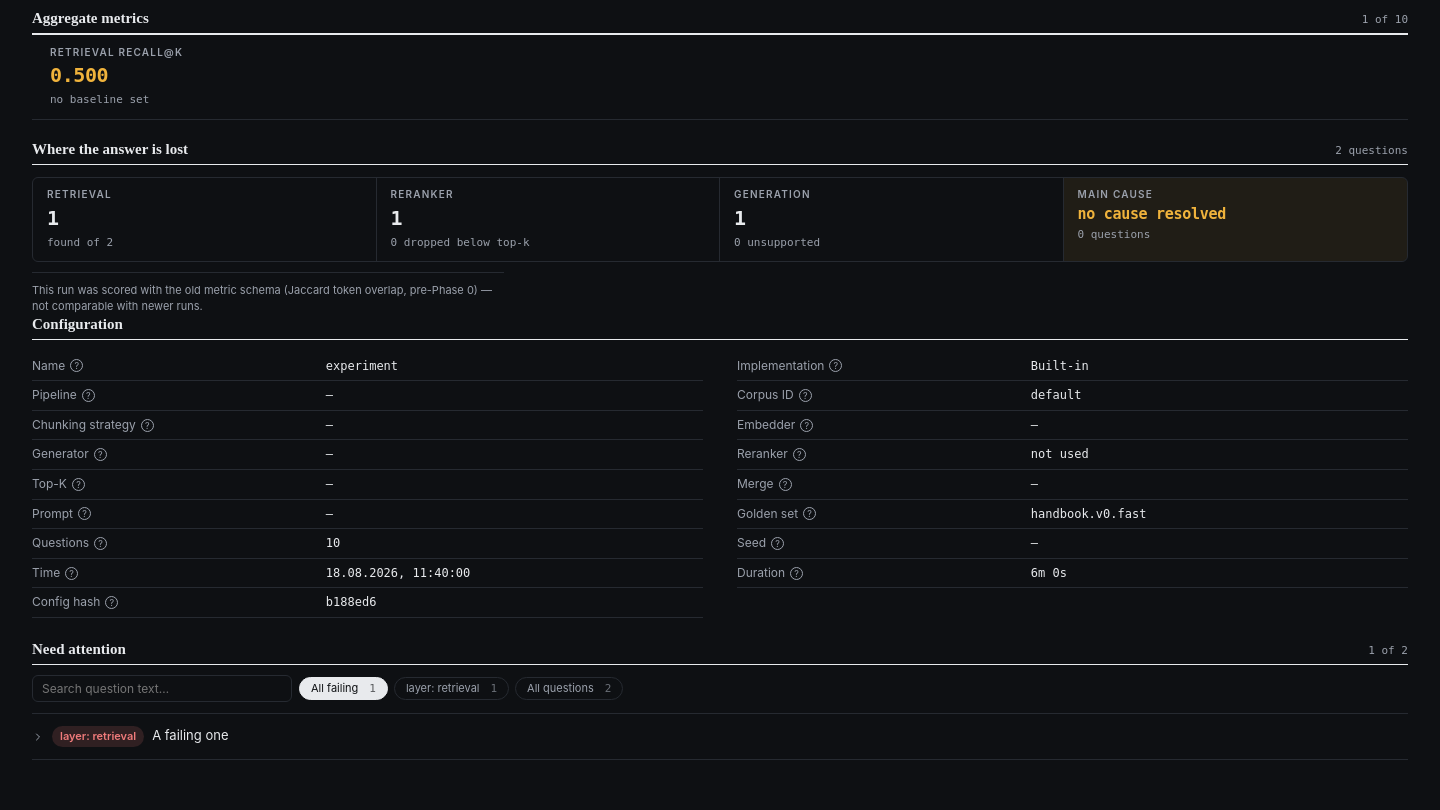
Test: filtering questions by failure layer › shows only the failures by default rather than the whole list
The width and height of the screenshot is (1440, 810).
(page scrolled)
Expected: the heading "Need attention" is shown, [32, 640, 126, 659]
Expected: the text "A failing one" is shown, [152, 727, 228, 743]
Click the button "All questions 2" at (569, 688), box [515, 677, 623, 700]
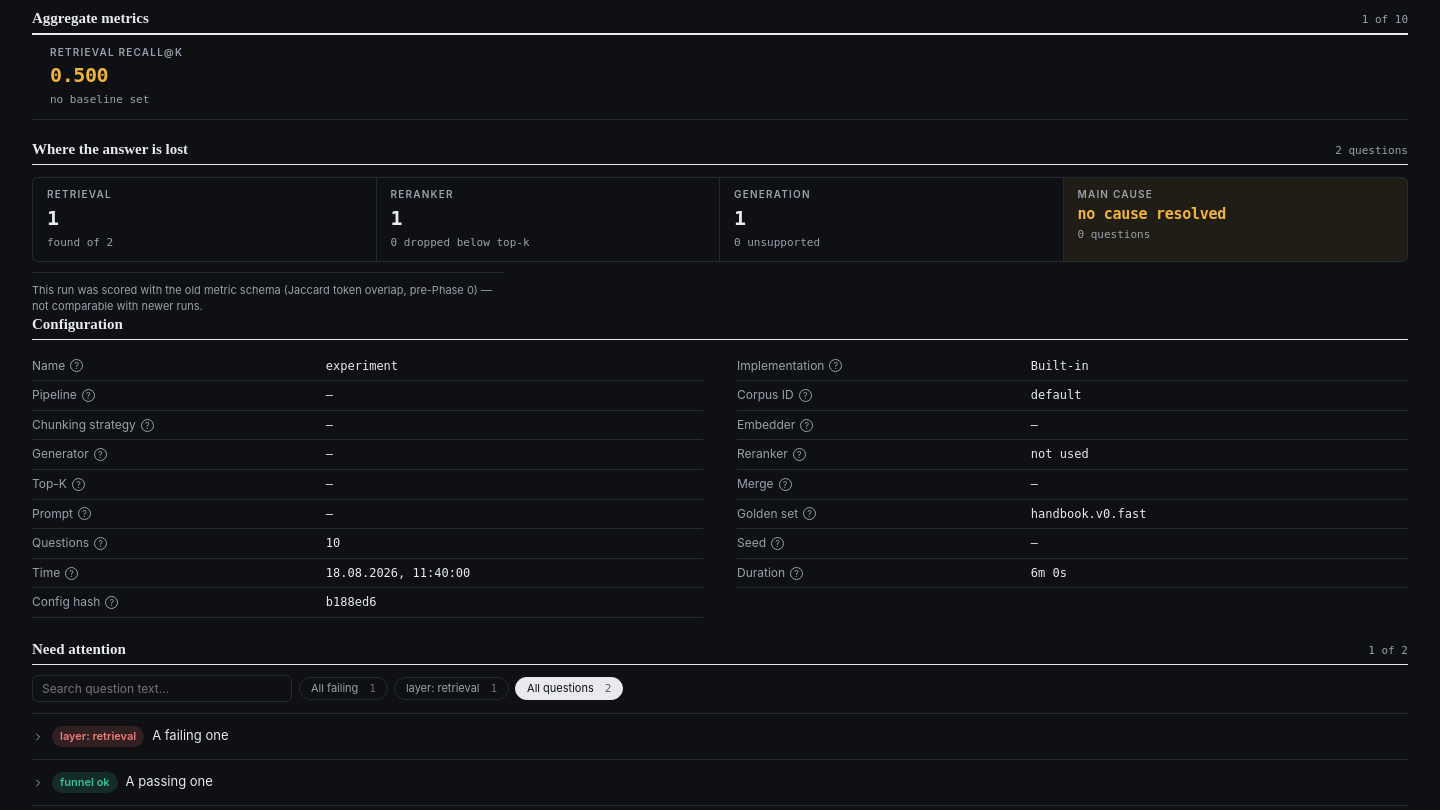
Expected: the text "A passing one" is shown, [126, 773, 213, 789]
